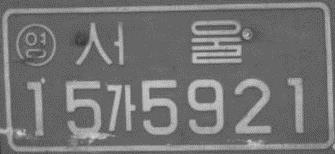1: (22, 77, 49, 139), (285, 76, 308, 134)
2: (233, 77, 273, 136)
5: (63, 79, 103, 137), (139, 78, 179, 135)
9: (186, 77, 223, 136)
가: (104, 82, 136, 133)
서울_D: (73, 15, 244, 67)
영: (15, 22, 58, 68)
